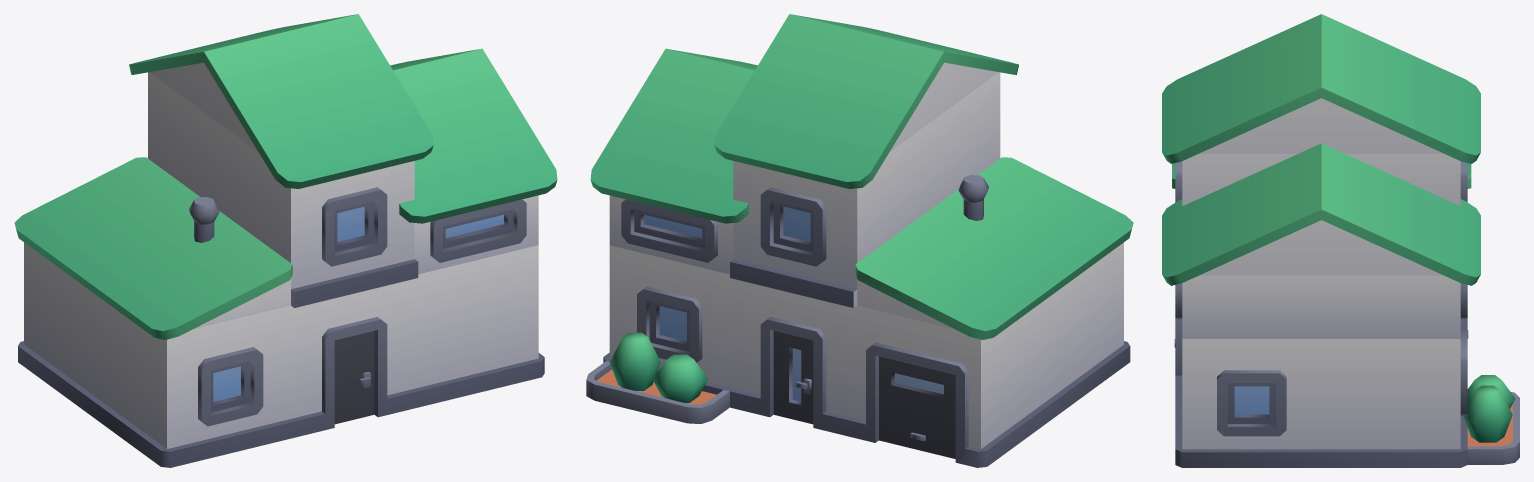
Rendered from u-building-type-c.glb.
3 views of the same model, side by side, from view 1: azimuth 30°, elevation 25°; view 2: azimuth 150°, elevation 25°; view 3: azimuth 270°, elevation 25° (orthographic). The views are drawn at different scales.
Visible parts, largest first — view 1: building-type-c; view 2: building-type-c; view 3: building-type-c.
Boxes of the visible parts, box(x1,y1,x2,y2) form: building-type-c: box(14, 14, 557, 467); building-type-c: box(586, 14, 1133, 467); building-type-c: box(1162, 14, 1519, 467).
Bounding box in the file's own units: 1.29 × 1.03 × 1.03.
Materials: 1 (1 with a texture image).
